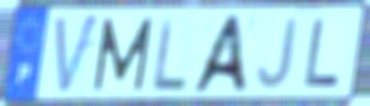A: (187, 13, 251, 94)
J: (255, 16, 300, 91)
L: (303, 16, 344, 89), (152, 15, 189, 94)
M: (91, 16, 155, 94)
V: (52, 11, 102, 99)
